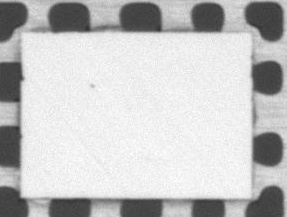DIE_INK: (88, 80, 96, 90)
